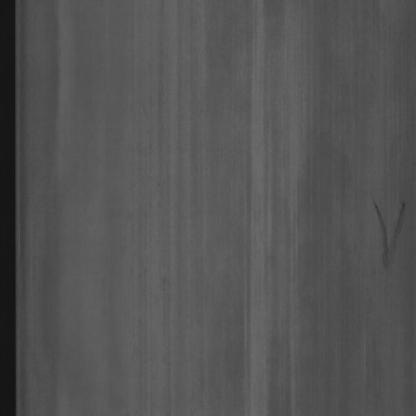water_spot: (369, 186, 406, 280)
